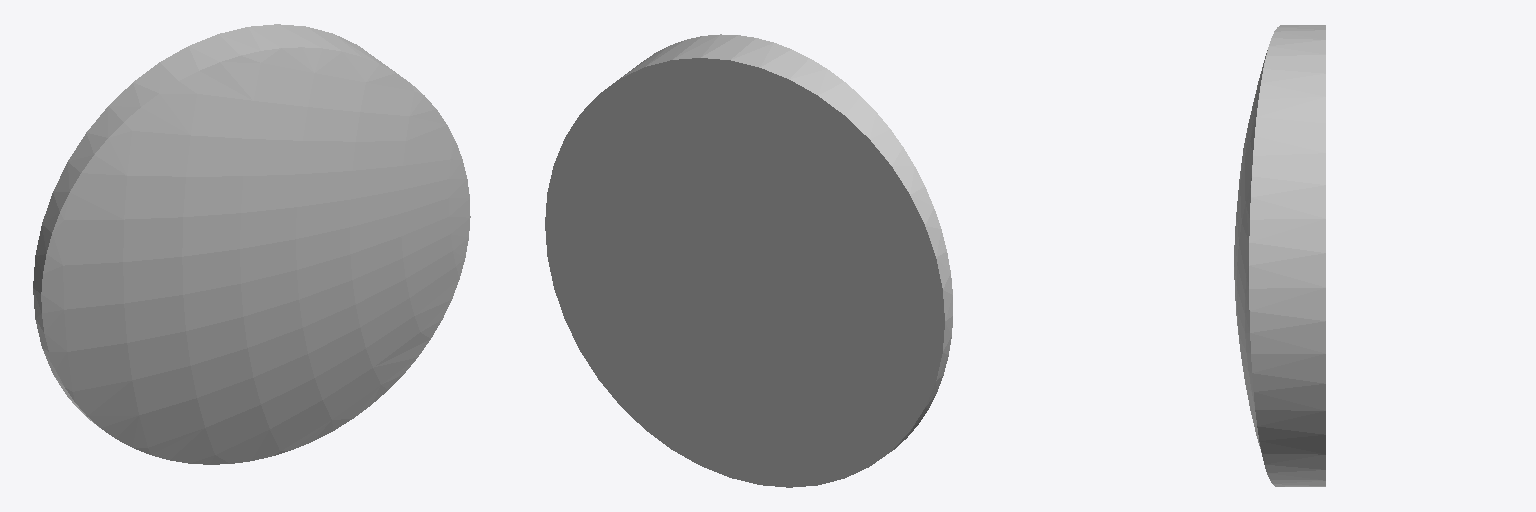
File: eye_len_right.obj
3 views of the same model, side by side, from view 1: azimuth 30°, elevation 25°; view 2: azimuth 150°, elevation 25°; view 3: azimuth 270°, elevation 25° (orthographic).
Parts seen in each view (by area): view 1: MeshBody5; view 2: MeshBody5; view 3: MeshBody5.
Boxes of the visible parts, <box> form: MeshBody5: <box>33,24,470,464</box>; MeshBody5: <box>545,34,952,487</box>; MeshBody5: <box>1234,25,1325,486</box>.
Bounding box in the file's own units: 9.32 × 9.32 × 1.85.